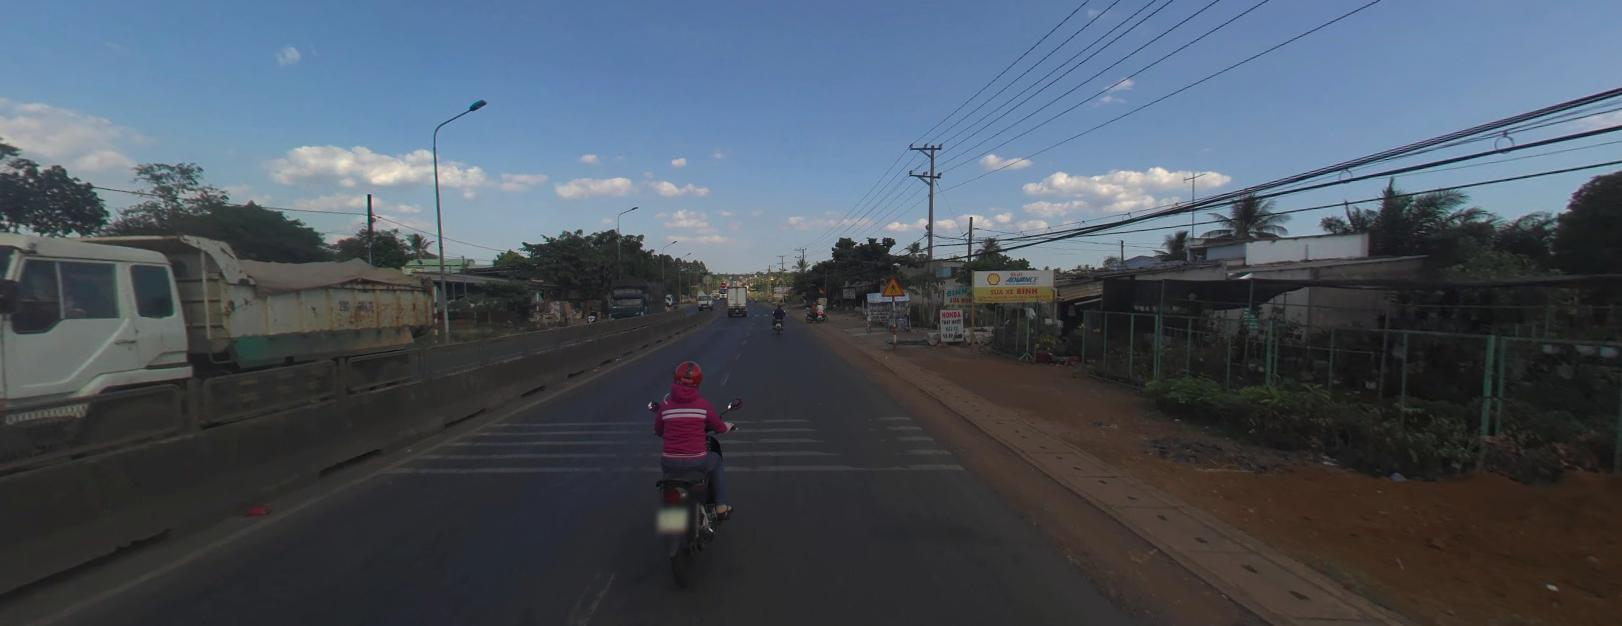Cam nguoc chieu: (720, 281, 725, 286)
Hieu lenh: (720, 286, 726, 291)
Nguy hiem: (881, 274, 904, 295)
